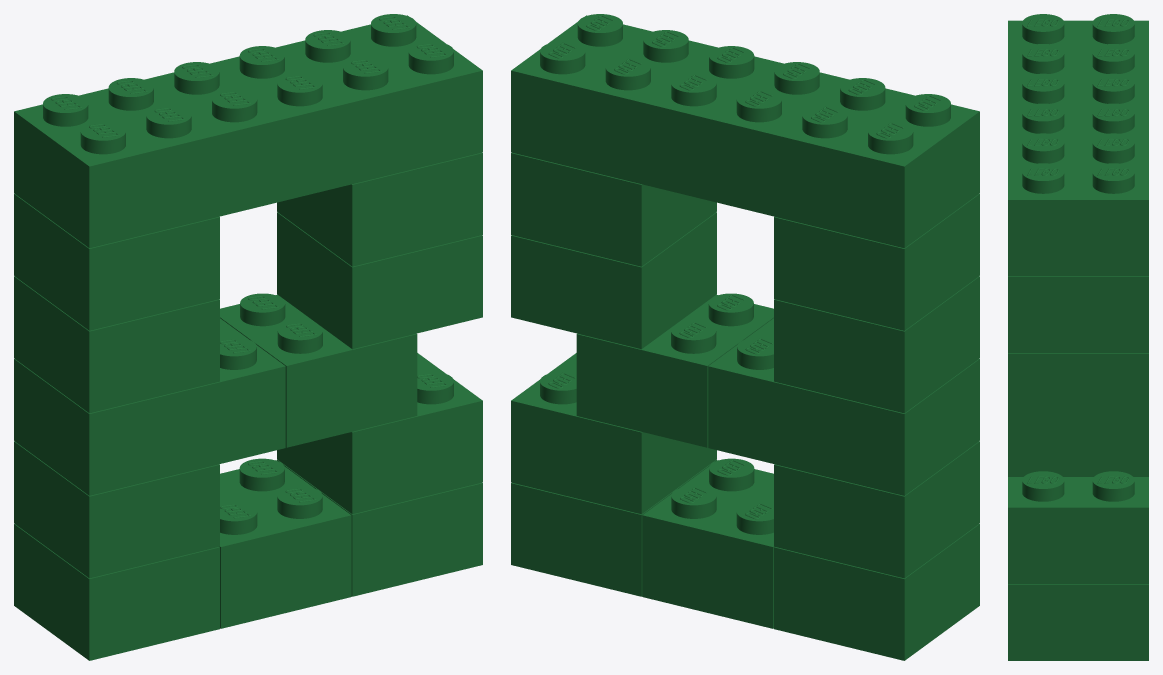
The picture shows the model from 3 angles, left to right: view 1: azimuth 30°, elevation 25°; view 2: azimuth 150°, elevation 25°; view 3: azimuth 270°, elevation 25°; orthographic projection. The views are drawn at different scales.
Visible parts, largest first — view 1: Inner-Node-B_dot_io-9, Inner-Node-B_dot_io-10, Inner-Node-B_dot_io-8, Inner-Node-B_dot_io-1, Inner-Node-B_dot_io-0, Inner-Node-B_dot_io-2, Inner-Node-B_dot_io-6, Inner-Node-B_dot_io-5, Inner-Node-B_dot_io-4, Inner-Node-B_dot_io-11, Inner-Node-B_dot_io-7, Inner-Node-B_dot_io-3; view 2: Inner-Node-B_dot_io-9, Inner-Node-B_dot_io-10, Inner-Node-B_dot_io-8, Inner-Node-B_dot_io-1, Inner-Node-B_dot_io-0, Inner-Node-B_dot_io-2, Inner-Node-B_dot_io-6, Inner-Node-B_dot_io-5, Inner-Node-B_dot_io-4, Inner-Node-B_dot_io-11, Inner-Node-B_dot_io-7, Inner-Node-B_dot_io-3; view 3: Inner-Node-B_dot_io-9, Inner-Node-B_dot_io-4, Inner-Node-B_dot_io-2, Inner-Node-B_dot_io-3, Inner-Node-B_dot_io-7, Inner-Node-B_dot_io-11.
Part boxes in pixels (box(x1,y1,x2,y2)): Inner-Node-B_dot_io-9: box(14, 14, 482, 248); Inner-Node-B_dot_io-10: box(14, 318, 285, 495); Inner-Node-B_dot_io-8: box(219, 458, 351, 628); Inner-Node-B_dot_io-1: box(14, 276, 219, 413); Inner-Node-B_dot_io-0: box(14, 441, 219, 578); Inner-Node-B_dot_io-2: box(277, 212, 482, 349); Inner-Node-B_dot_io-6: box(14, 193, 219, 330); Inner-Node-B_dot_io-5: box(14, 524, 219, 660); Inner-Node-B_dot_io-4: box(277, 353, 482, 514); Inner-Node-B_dot_io-11: box(220, 293, 417, 447); Inner-Node-B_dot_io-7: box(277, 152, 482, 266); Inner-Node-B_dot_io-3: box(277, 459, 482, 596); Inner-Node-B_dot_io-9: box(511, 14, 979, 248); Inner-Node-B_dot_io-10: box(708, 318, 979, 495); Inner-Node-B_dot_io-8: box(642, 458, 774, 628); Inner-Node-B_dot_io-1: box(774, 276, 979, 413); Inner-Node-B_dot_io-0: box(774, 441, 979, 578); Inner-Node-B_dot_io-2: box(511, 212, 716, 349); Inner-Node-B_dot_io-6: box(774, 193, 979, 330); Inner-Node-B_dot_io-5: box(774, 524, 979, 660); Inner-Node-B_dot_io-4: box(511, 353, 716, 514); Inner-Node-B_dot_io-11: box(576, 293, 773, 447); Inner-Node-B_dot_io-7: box(511, 152, 716, 266); Inner-Node-B_dot_io-3: box(511, 459, 716, 596); Inner-Node-B_dot_io-9: box(1008, 14, 1148, 275); Inner-Node-B_dot_io-4: box(1008, 471, 1148, 583); Inner-Node-B_dot_io-2: box(1008, 353, 1148, 429); Inner-Node-B_dot_io-3: box(1008, 584, 1148, 660); Inner-Node-B_dot_io-7: box(1008, 276, 1148, 352); Inner-Node-B_dot_io-11: box(1008, 430, 1148, 476).
Bounding box in the file's own units: 120 × 148 × 39.75.
